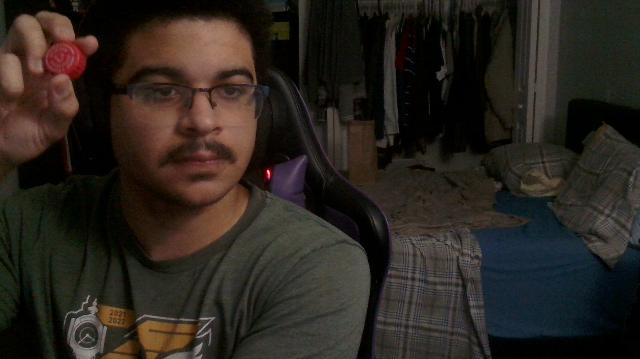cap: (44, 41, 86, 79)
